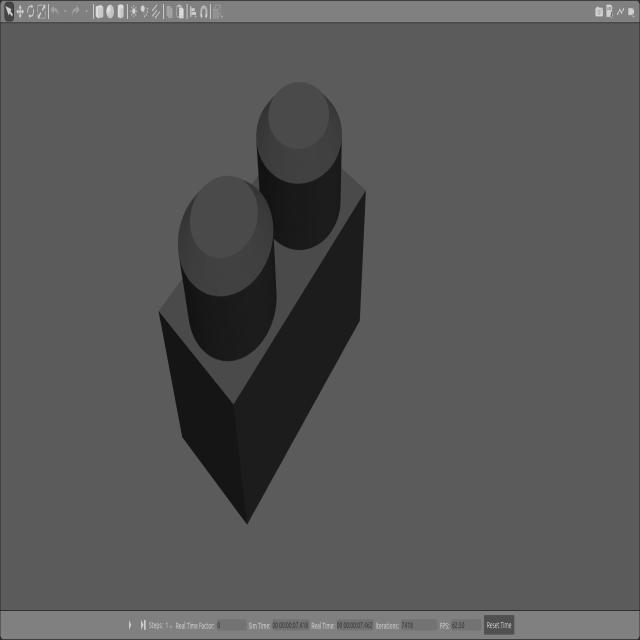block3: (159, 83, 366, 523)
